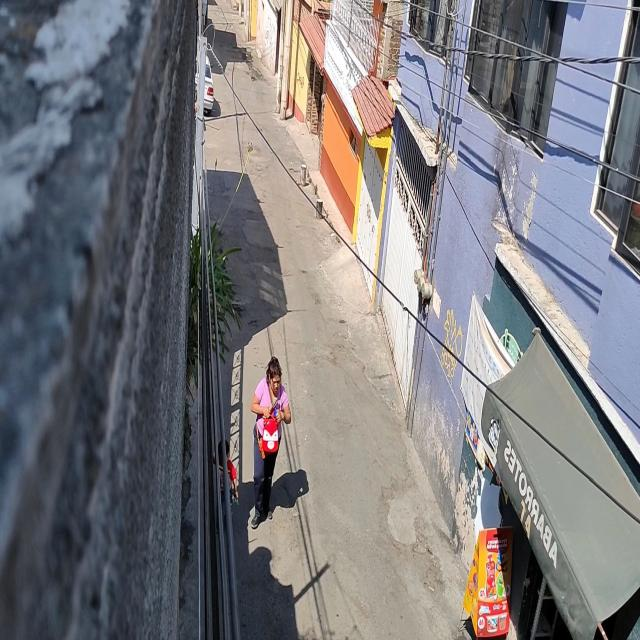adult: (250, 356, 292, 528)
